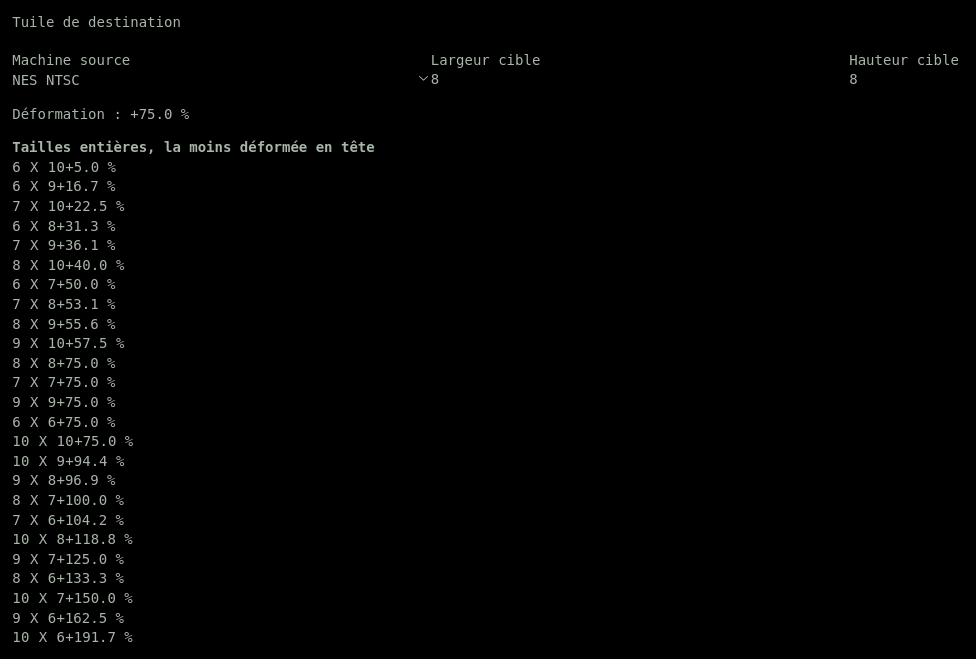
Test: TilesetGeometryPanel › lets a size the source shape dislikes through, and reports it
The image size is (976, 659).
Type "0" into the number field labelled "Largeur cible" at (640,80), box [431, 70, 849, 90]
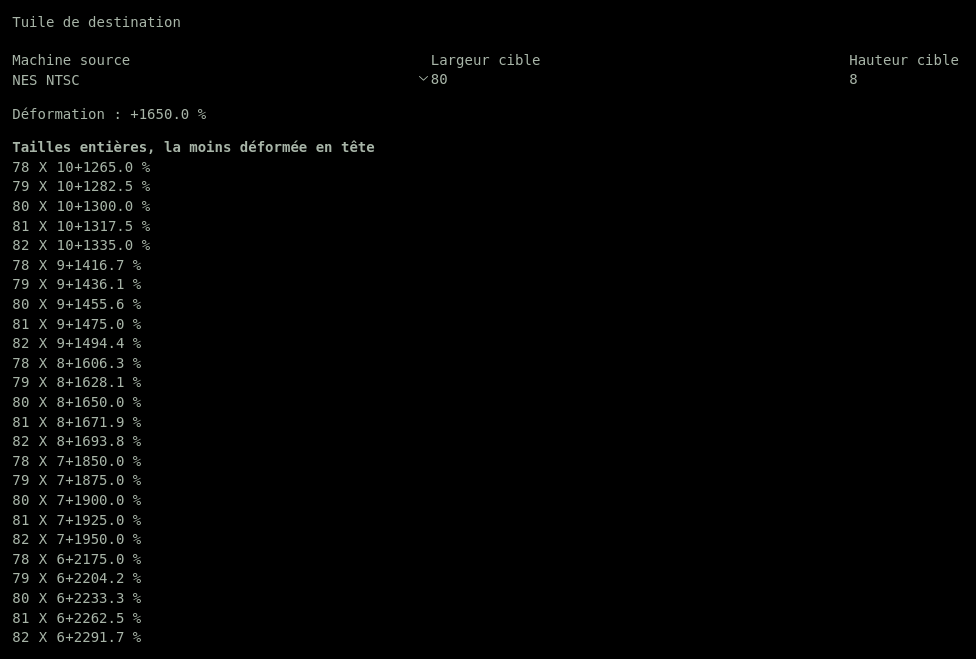
Result: the number field labelled "Largeur cible" holds "80" at [431, 70, 849, 90]
